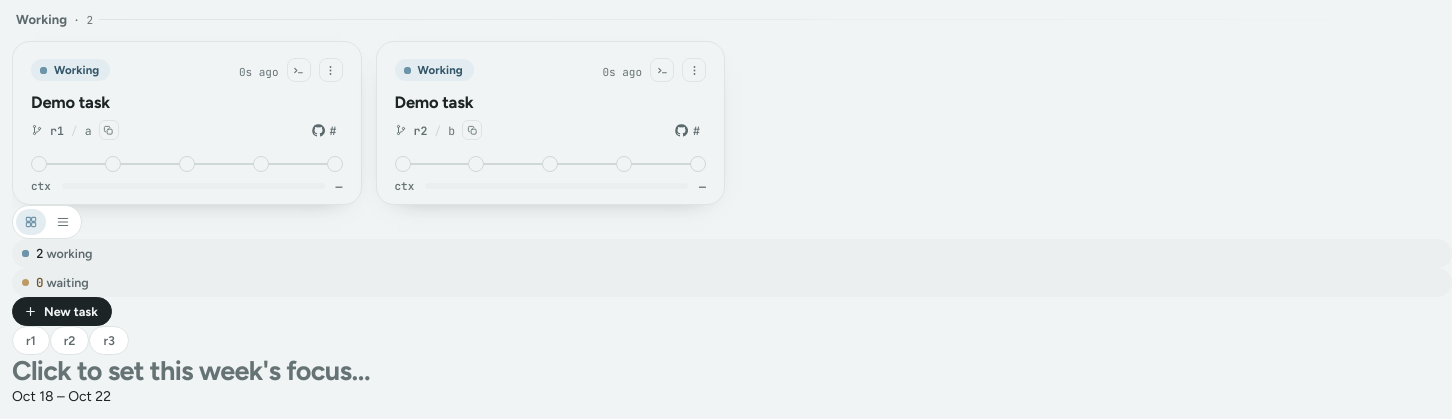
Test case: ActiveBoard: project filter › a selected project present only on the backlog leaves the shared empty state and a zero count
The image size is (1452, 419).
Click the button "r3": (109, 341) [90,326,129,355]
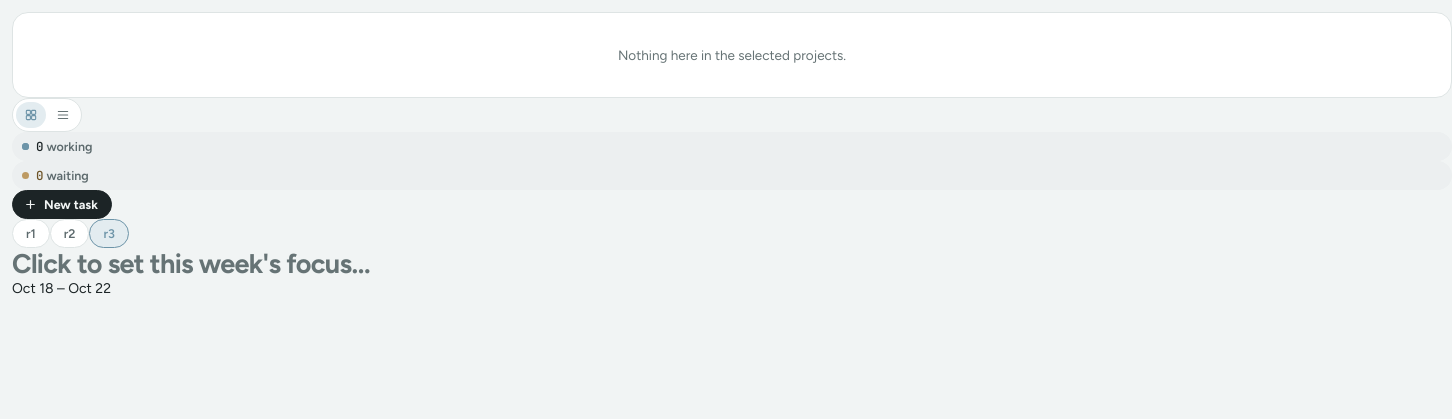
Expected: the text "Nothing here in the selected projects." is shown, [12,12,1451,98]
